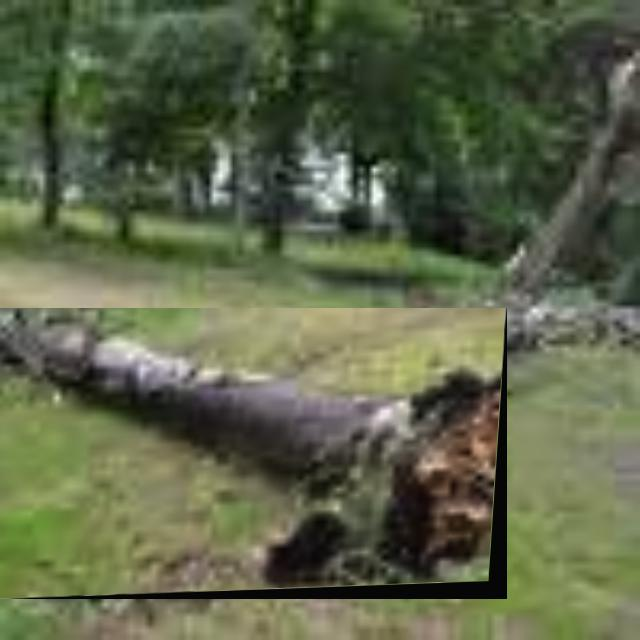Fallen Tree: (0, 308, 508, 600)
